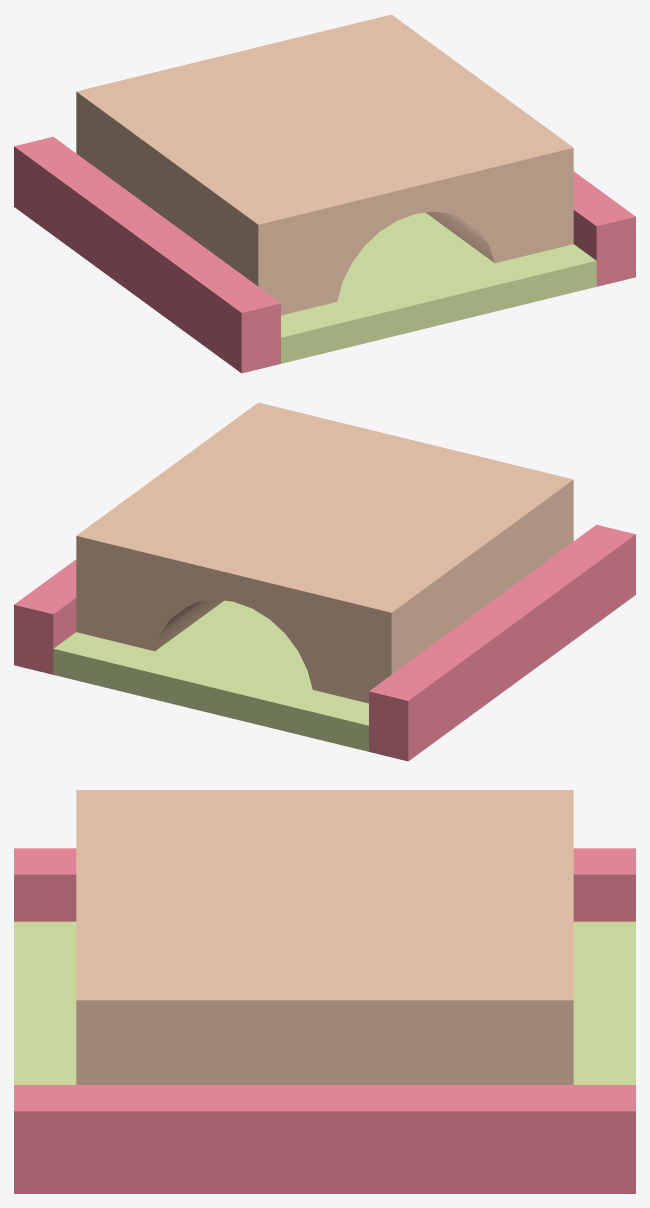
The model's file is tunnelWide.fbx.
3 renders of one model, top to bottom at view 1: azimuth 30°, elevation 25°; view 2: azimuth 150°, elevation 25°; view 3: azimuth 270°, elevation 25°, orthographic. The views are drawn at different scales.
Visible parts, largest first — view 1: tunnelWide; view 2: tunnelWide; view 3: tunnelWide.
Boxes of the visible parts, box(x1,y1,x2,y2) form: tunnelWide: box(14, 14, 635, 373); tunnelWide: box(14, 402, 635, 761); tunnelWide: box(14, 790, 635, 1193).
Size of the model in its own units: 99.99 by 29.66 by 99.99.
